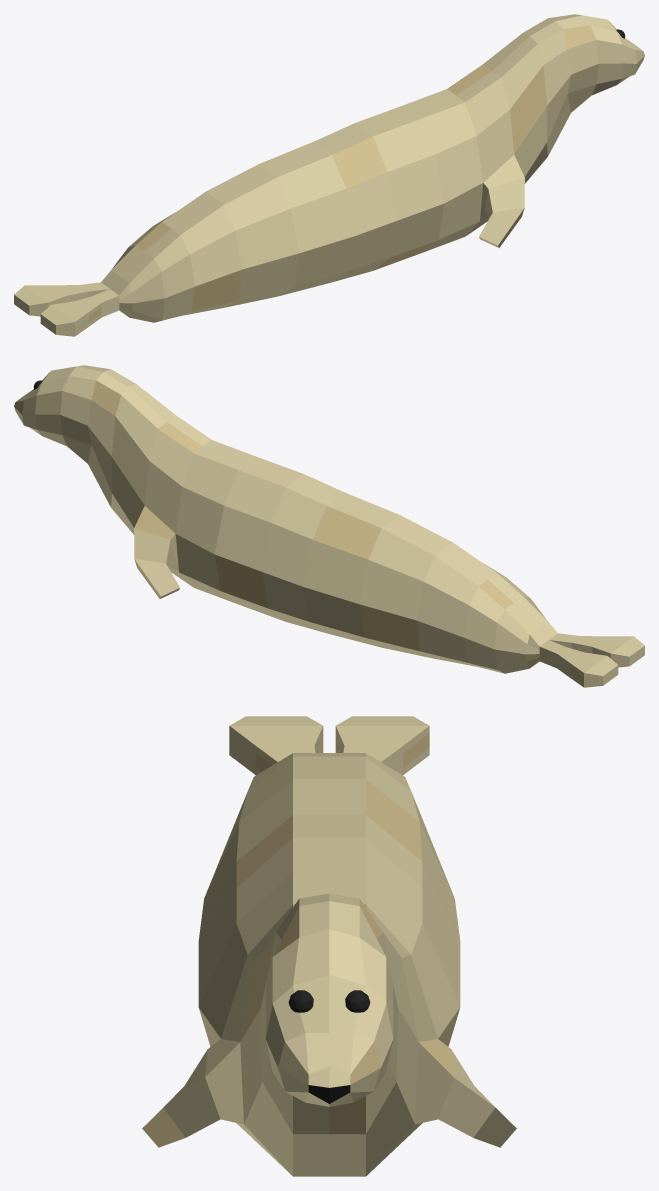
File: Sealyseall.fbx
3 renders of one model, top to bottom at view 1: azimuth 30°, elevation 25°; view 2: azimuth 150°, elevation 25°; view 3: azimuth 270°, elevation 25°, orthographic. The views are drawn at different scales.
Visible parts, largest first — view 1: Plane; view 2: Plane; view 3: Plane.
Boxes of the visible parts, box(x1,y1,x2,y2) form: Plane: box(14, 14, 644, 336); Plane: box(14, 365, 644, 687); Plane: box(142, 716, 516, 1176).
Bounding box in the file's own units: 770 × 241 × 206.
